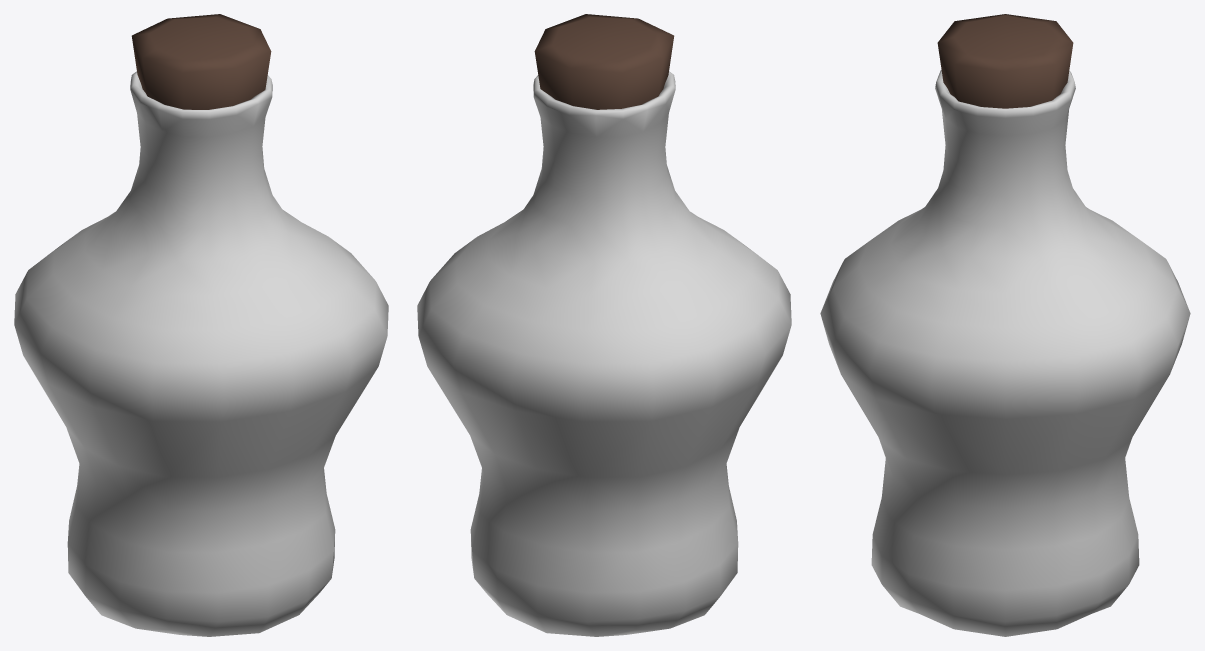
Rendered from Potion3_Filled.glb.
The picture shows the model from 3 angles, left to right: view 1: azimuth 30°, elevation 25°; view 2: azimuth 150°, elevation 25°; view 3: azimuth 270°, elevation 25°; orthographic projection.
Parts seen in each view (by area): view 1: Potion3_Filled; view 2: Potion3_Filled; view 3: Potion3_Filled.
Part boxes in pixels (<box>): Potion3_Filled: <box>14,14,388,636</box>; Potion3_Filled: <box>417,14,791,636</box>; Potion3_Filled: <box>820,14,1190,636</box>.
Size of the model in its own units: 0.7187 by 1.22 by 0.7187.
